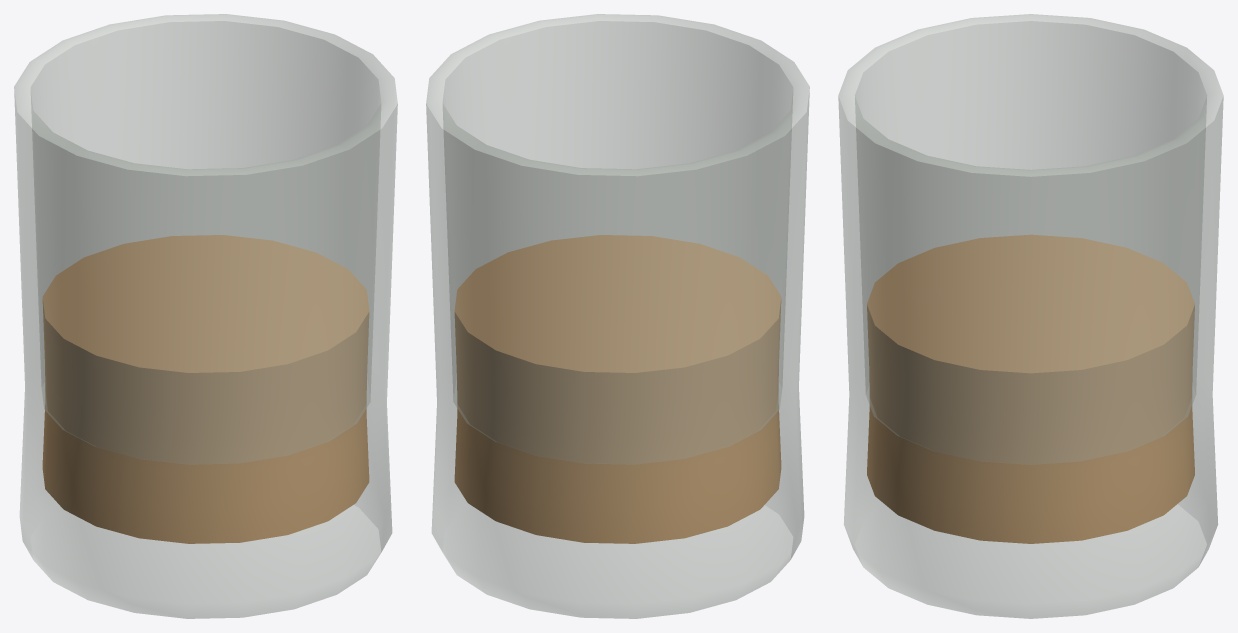
The model's file is drink-3.glb.
3 renders of one model, left to right at view 1: azimuth 30°, elevation 25°; view 2: azimuth 150°, elevation 25°; view 3: azimuth 270°, elevation 25°, orthographic.
Visible parts, largest first — view 1: glass, liquid; view 2: glass, liquid; view 3: glass, liquid.
Boxes of the visible parts, box(x1,y1,x2,y2) form: glass: box(14, 14, 397, 618); liquid: box(42, 235, 369, 543); glass: box(426, 14, 809, 618); liquid: box(454, 235, 781, 543); glass: box(838, 14, 1223, 618); liquid: box(867, 234, 1194, 543).
Size of the model in its own units: 0.07 by 0.0904 by 0.07.
